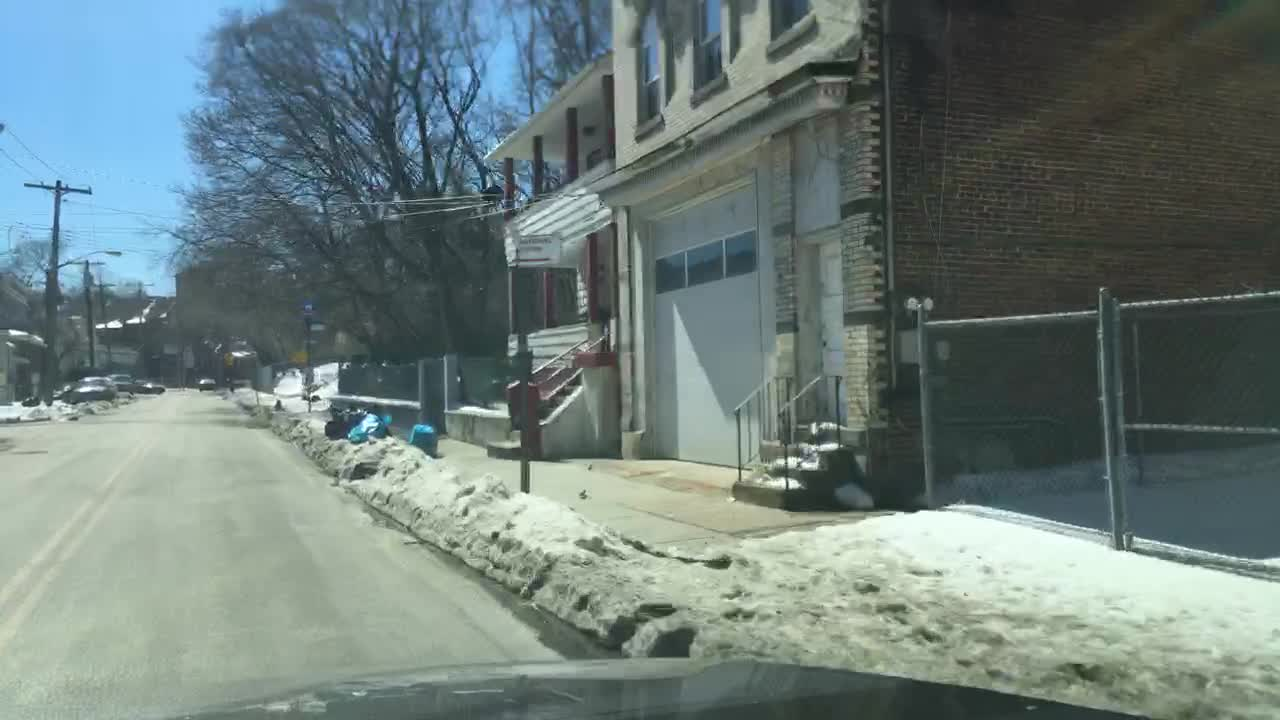car: (69, 376, 116, 401), (137, 376, 165, 395), (109, 372, 136, 388), (197, 376, 215, 392)
